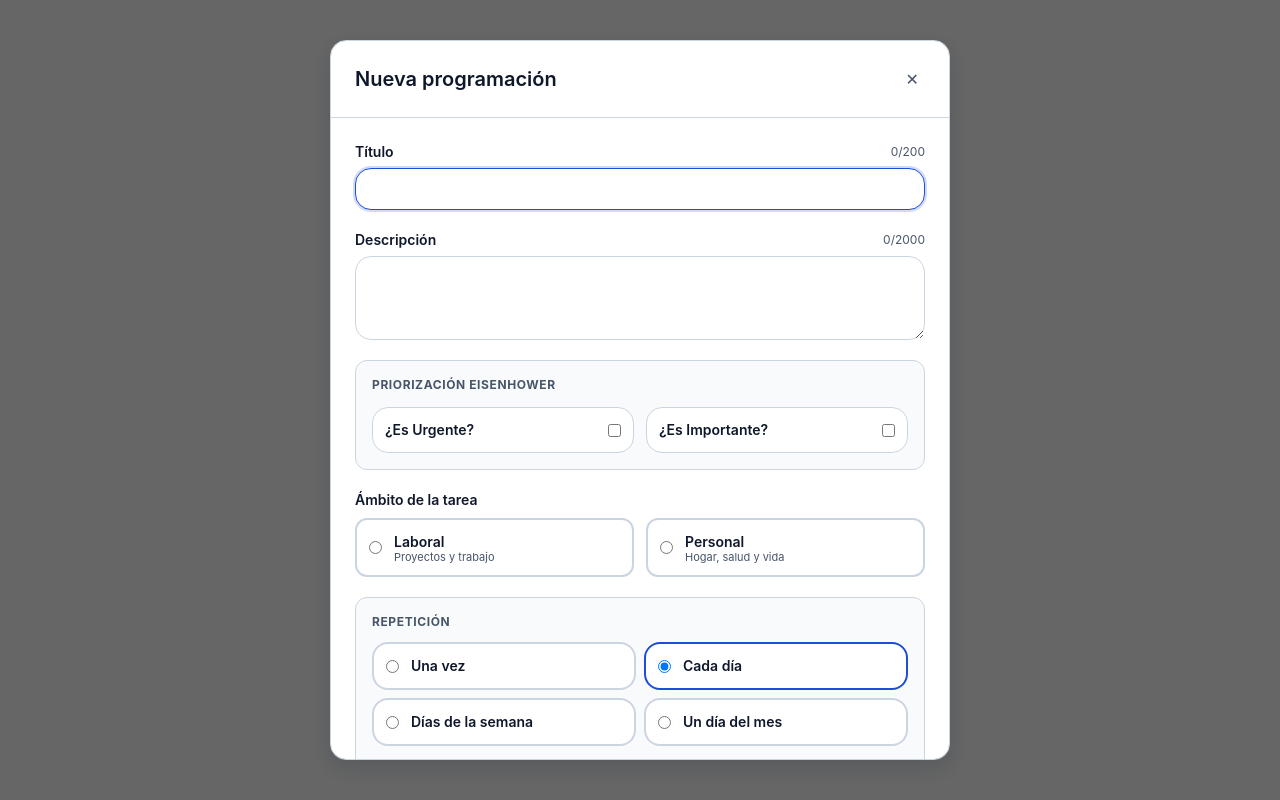
Test: <ScheduleForm> (crear) › reutiliza los campos de una tarea y muestra a qué cuadrante irá
expect the dialog "Nueva programación" is shown: met, box [330,40,950,760]
expect the field labelled "Título" is shown: met, box [355,168,925,210]
Click the checkbox named "Marcar como urgente" at (614,430), box [608,424,621,436]
(page scrolled)
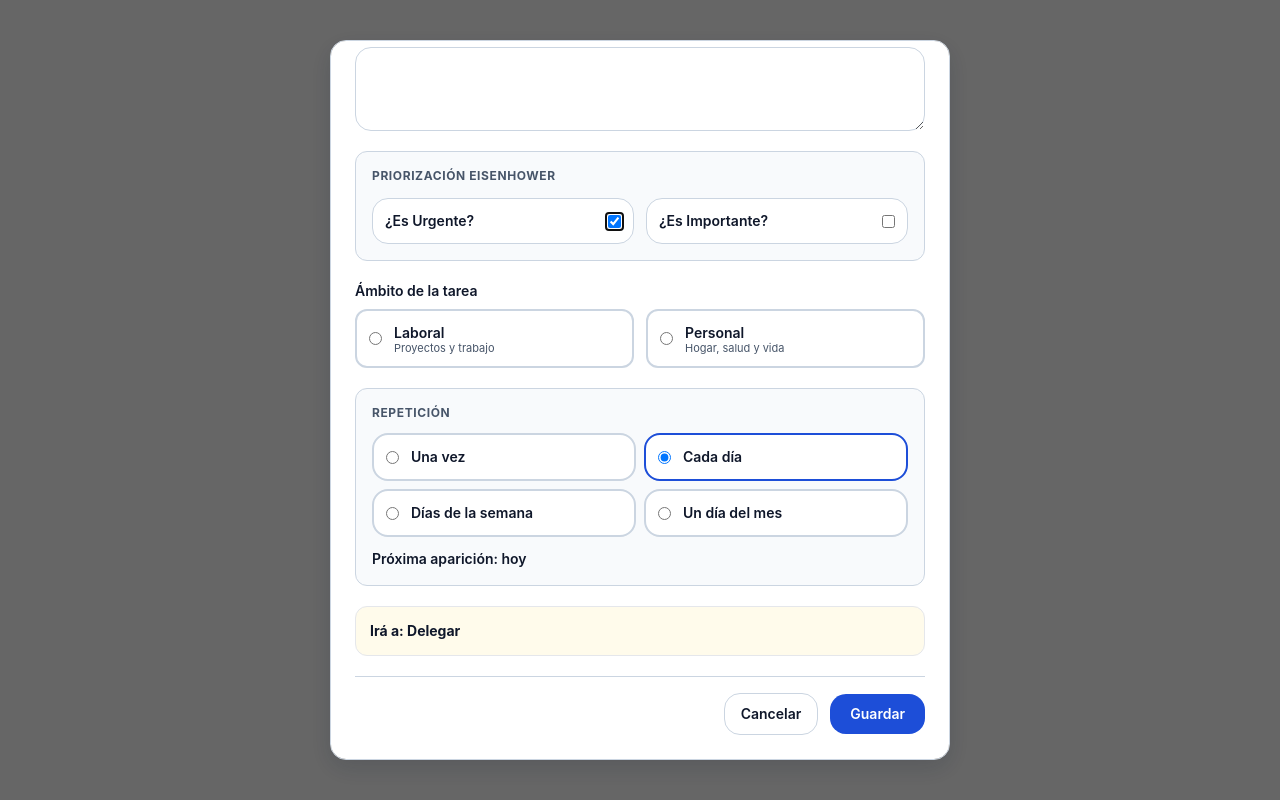
expect the text "Irá a: Delegar" is shown: met, box [370,621,460,641]
